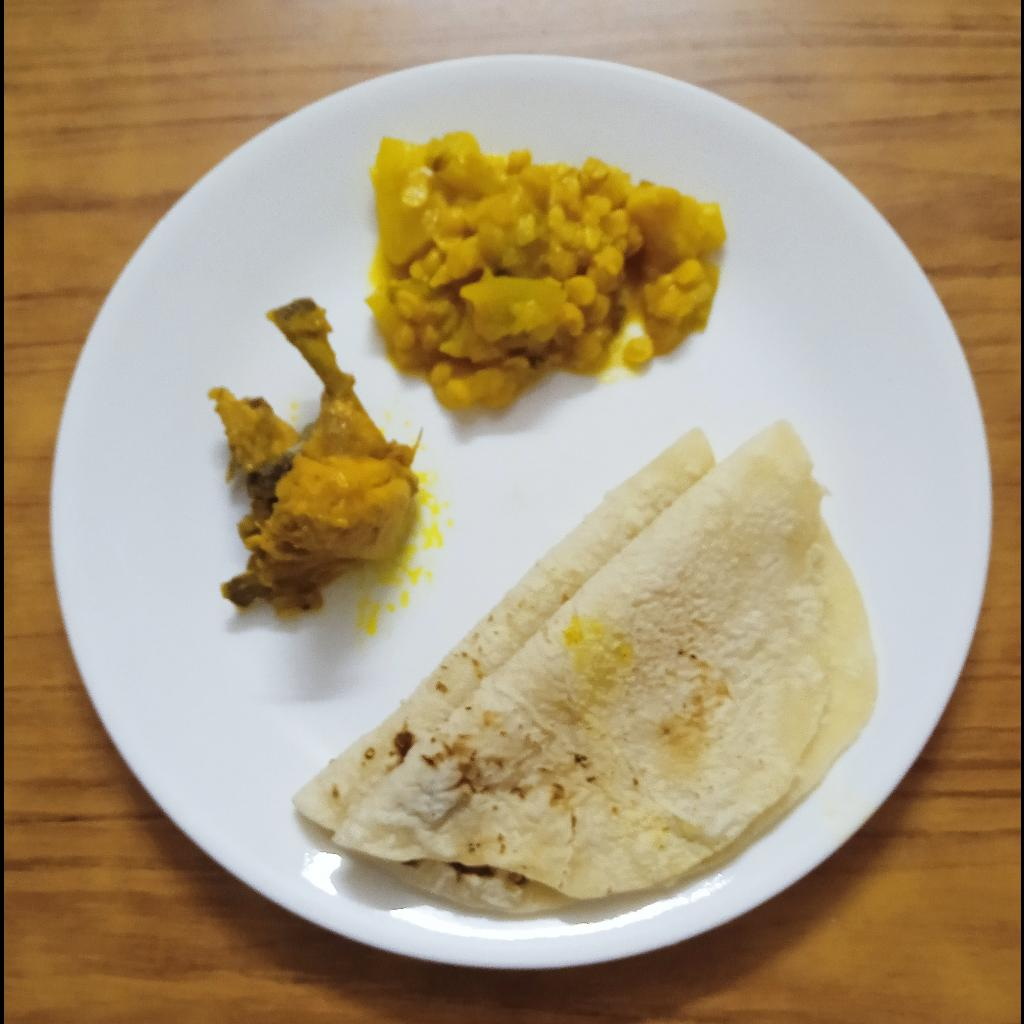chicken: (205, 296, 421, 622)
daal: (364, 127, 727, 409)
ruti: (295, 412, 881, 916)
